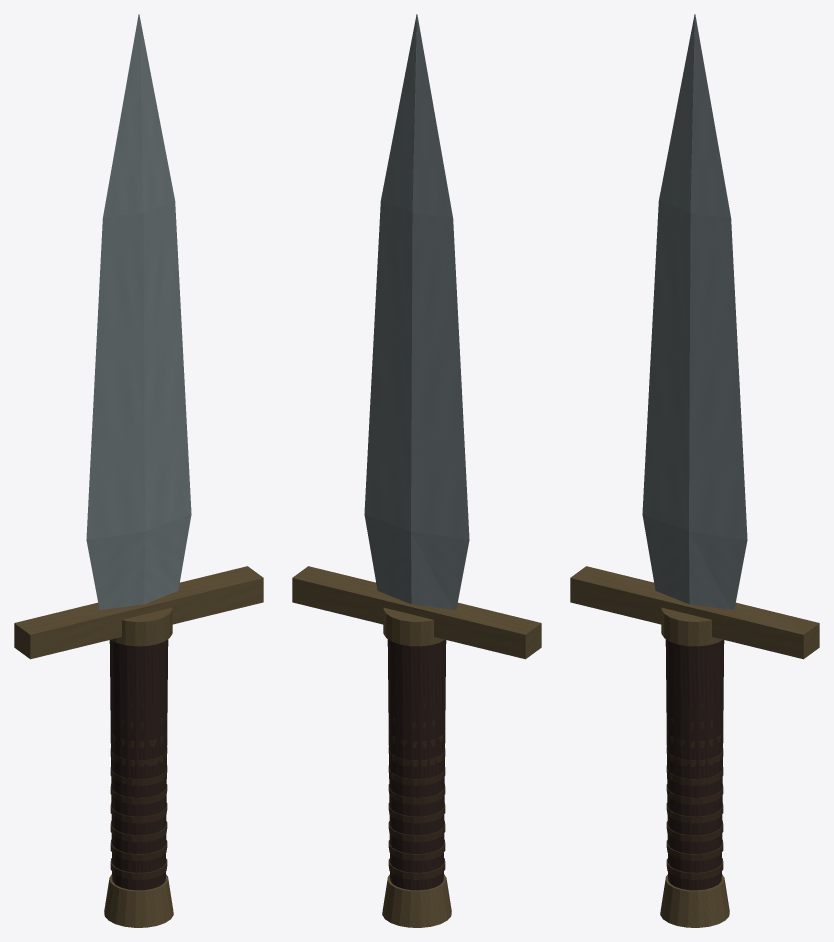
File: market_thief_prop_dagger.fbx
3 views of the same model, side by side, from view 1: azimuth 30°, elevation 25°; view 2: azimuth 150°, elevation 25°; view 3: azimuth 330°, elevation 25° (orthographic).
Parts seen in each view (by area): view 1: market_thief_prop_dagger; view 2: market_thief_prop_dagger; view 3: market_thief_prop_dagger.
Part boxes in pixels (x1,y1,x2,y2): market_thief_prop_dagger: [14, 14, 263, 927]; market_thief_prop_dagger: [292, 14, 541, 927]; market_thief_prop_dagger: [570, 14, 819, 927].
Bounding box in the file's own units: 10 × 2.6 × 36.8.
1 material, 1 textured.
